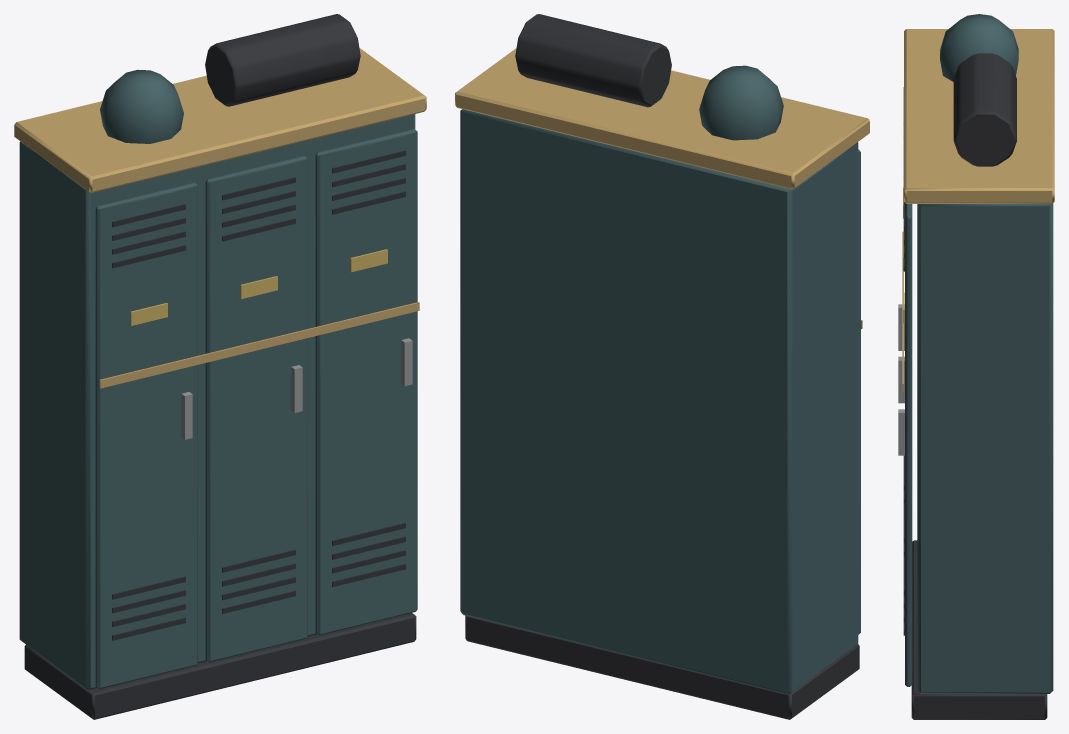
Rendered from int_lockers.glb.
3 renders of one model, left to right at view 1: azimuth 30°, elevation 25°; view 2: azimuth 150°, elevation 25°; view 3: azimuth 270°, elevation 25°, orthographic. The views are drawn at different scales.
Visible parts, largest first — view 1: kit_int_lockers_paint, kit_int_lockers_dark_metal, kit_int_lockers_trim_metal, kit_int_lockers_label_paint, kit_int_lockers_metal; view 2: kit_int_lockers_paint, kit_int_lockers_trim_metal, kit_int_lockers_dark_metal; view 3: kit_int_lockers_paint, kit_int_lockers_trim_metal, kit_int_lockers_dark_metal, kit_int_lockers_metal.
Part boxes in pixels (x1,y1,x2,y2): kit_int_lockers_paint: (19,69,417,690); kit_int_lockers_dark_metal: (24,14,416,719); kit_int_lockers_trim_metal: (14,48,426,388); kit_int_lockers_label_paint: (130,249,387,325); kit_int_lockers_metal: (181,338,412,439); kit_int_lockers_paint: (460,65,860,694); kit_int_lockers_trim_metal: (455,48,869,328); kit_int_lockers_dark_metal: (465,14,859,719); kit_int_lockers_paint: (905,14,1053,693); kit_int_lockers_trim_metal: (902,29,1054,391); kit_int_lockers_dark_metal: (903,53,1047,719); kit_int_lockers_metal: (898,304,904,455).
Size of the model in its own units: 1.29 by 2.21 by 0.53.
